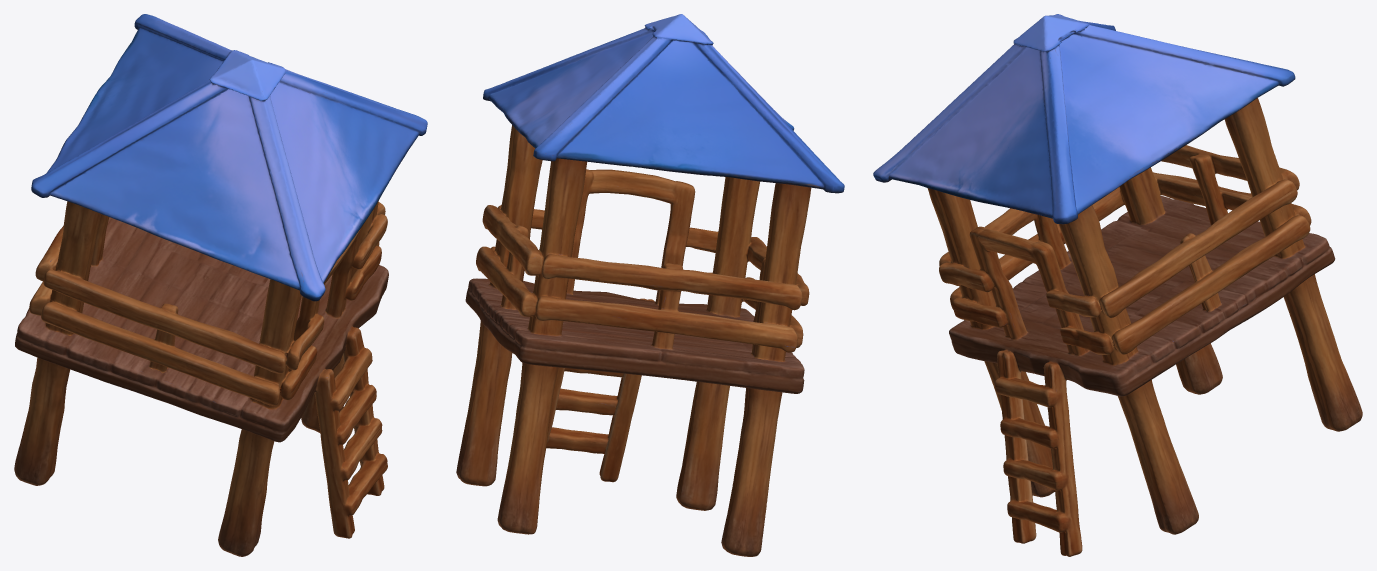
The model's file is tower_blue.glb.
3 views of the same model, side by side, from view 1: azimuth 30°, elevation 25°; view 2: azimuth 150°, elevation 25°; view 3: azimuth 270°, elevation 25° (orthographic).
Bounding box in the file's own units: 0.6772 × 0.844 × 0.7705.
1 material, 1 textured.
